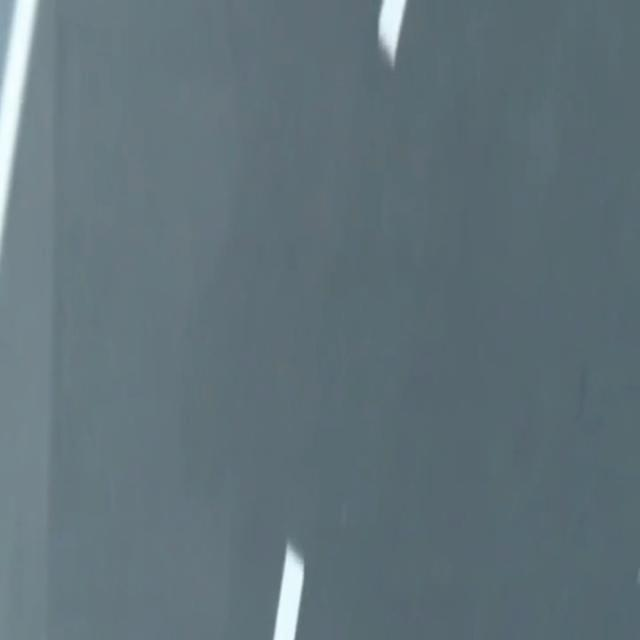center: (273, 540, 304, 639), (378, 0, 406, 67)
left: (0, 0, 37, 255)
